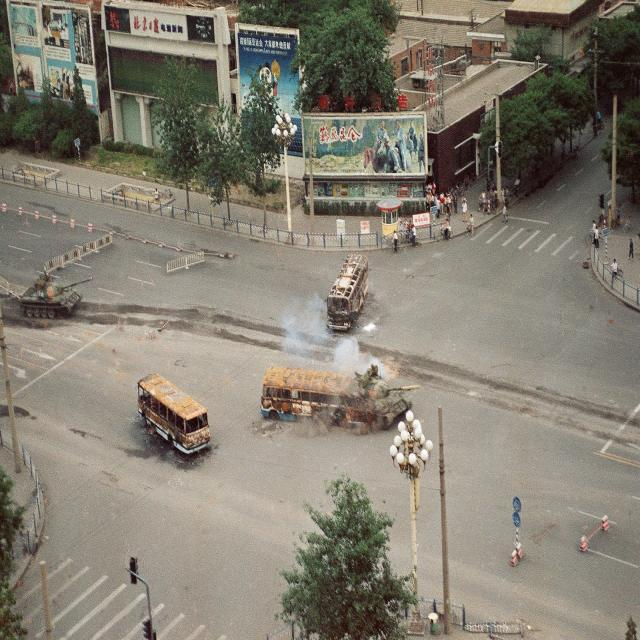Tanks: (343, 361, 425, 430), (19, 269, 96, 321)
